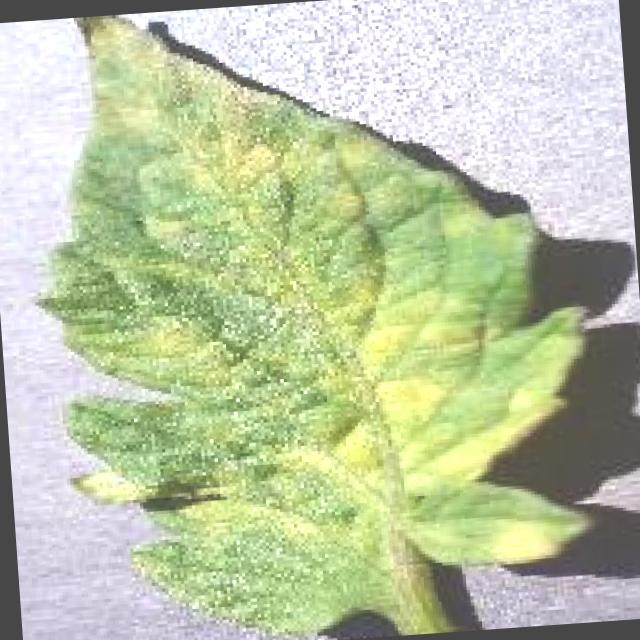leaf mold: (40, 15, 606, 636)
